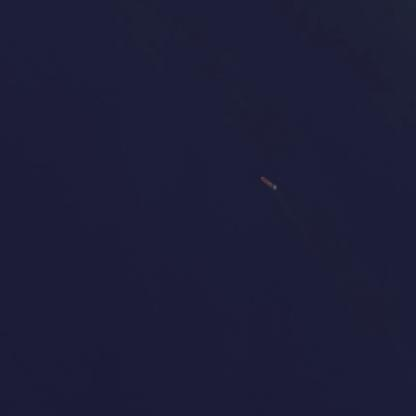ship: (240, 6, 262, 27)
